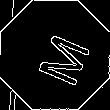M_NW: (23, 24, 87, 86)
